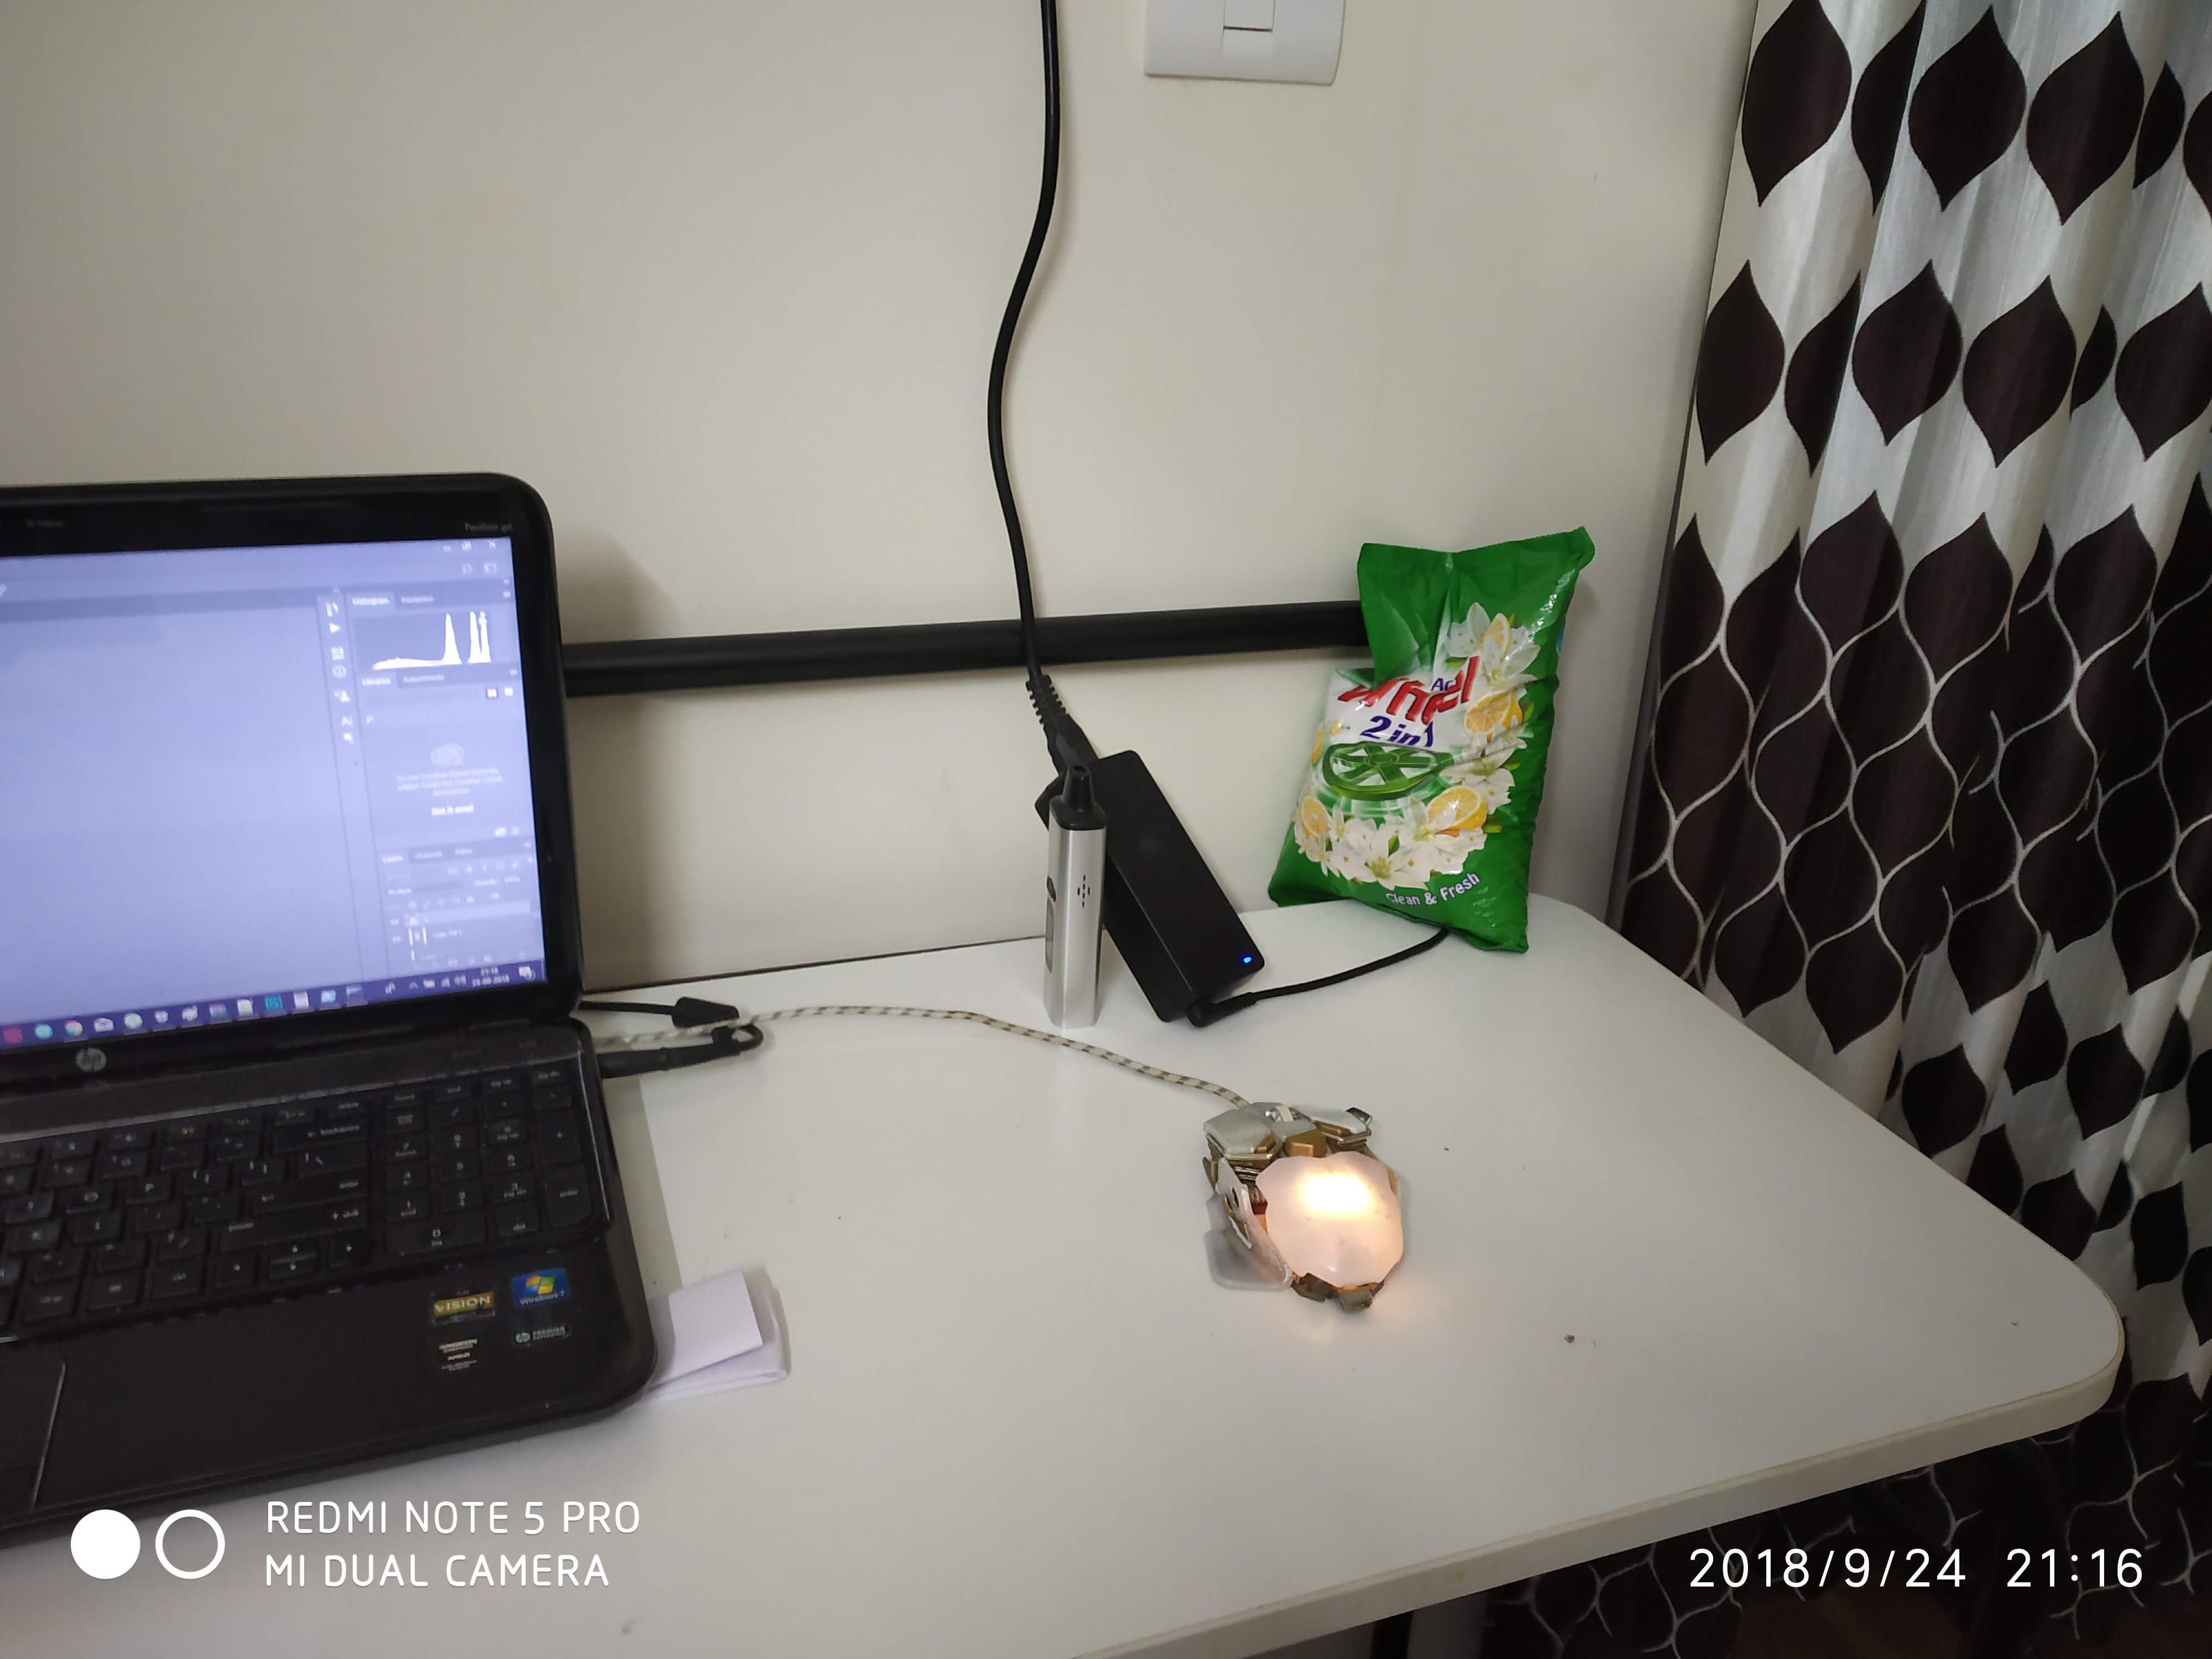detergent: (1291, 505, 1599, 961)
